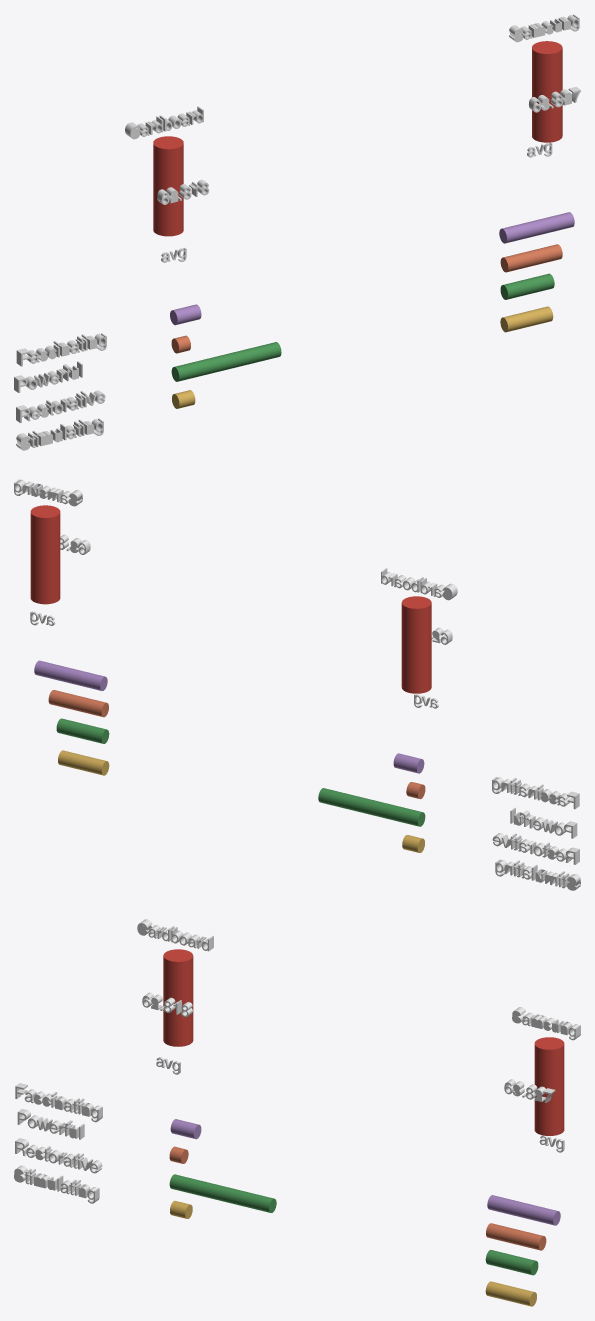
File: elephant 1.fbx
The picture shows the model from 3 angles, top to bottom: view 1: azimuth 30°, elevation 25°; view 2: azimuth 150°, elevation 25°; view 3: azimuth 330°, elevation 25°; orthographic projection. The views are drawn at different scales.
Visible parts, largest first — view 1: Cylinder, Cylinder_1, Cylinder_8, Cylinder_12, Cylinder_13, Cylinder_11, Cylinder_10; view 2: Cylinder_1, Cylinder, Cylinder_8, Cylinder_12, Cylinder_13, Cylinder_11, Cylinder_10; view 3: Cylinder_1, Cylinder, Cylinder_8, Cylinder_12, Cylinder_13, Cylinder_11, Cylinder_10.
Part boxes in pixels (x1,y1,x2,y2): Cylinder: (153,136,183,236); Cylinder_1: (532,41,562,142); Cylinder_8: (171,342,281,381); Cylinder_12: (499,212,574,243); Cylinder_13: (500,244,562,272); Cylinder_11: (500,273,554,299); Cylinder_10: (500,306,553,332); Cylinder_1: (30,505,60,604); Cylinder: (401,596,431,693); Cylinder_8: (318,788,425,826); Cylinder_12: (34,660,107,690); Cylinder_13: (48,690,108,717); Cylinder_11: (56,718,109,743); Cylinder_10: (58,750,109,775); Cylinder_1: (534,1037,564,1135); Cylinder: (163,949,193,1046); Cylinder_8: (169,1174,276,1212); Cylinder_12: (487,1195,560,1225); Cylinder_13: (486,1223,546,1250); Cylinder_11: (485,1250,538,1275); Cylinder_10: (485,1281,536,1306).
Size of the model in its own units: 428 by 213 by 31.39.
